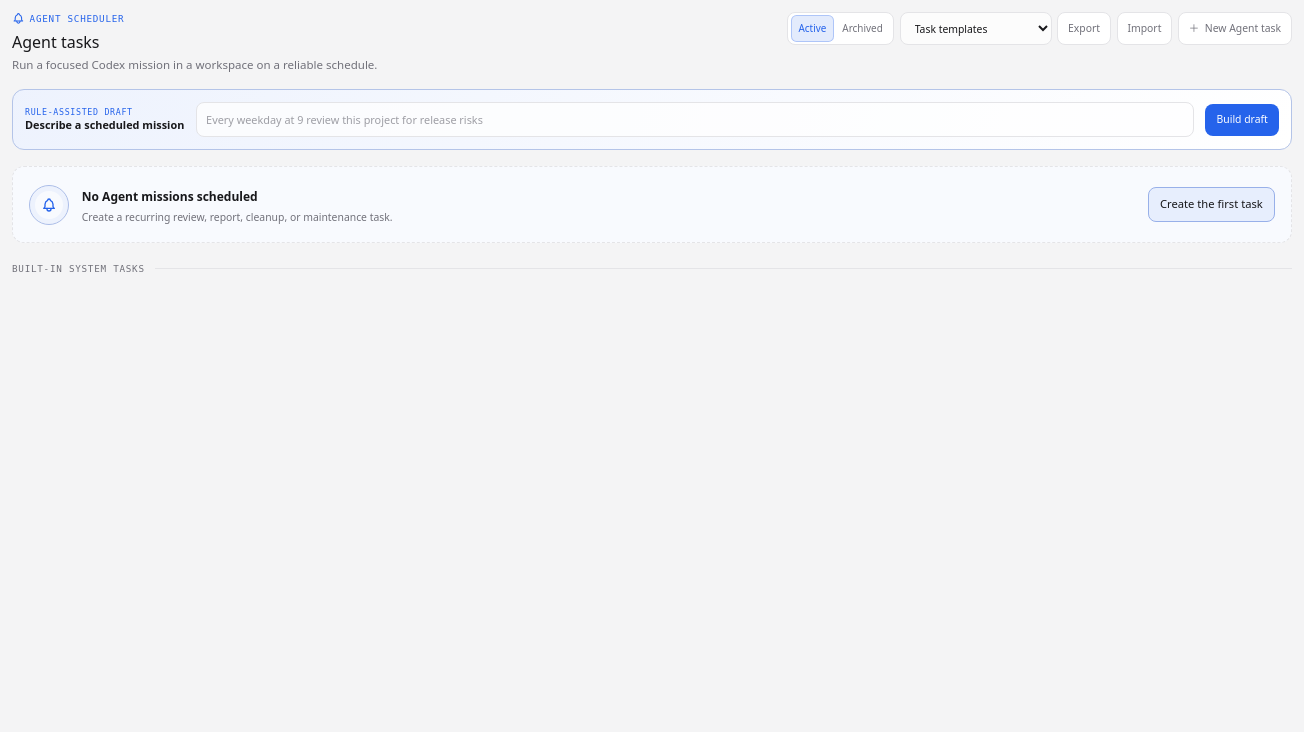
Test: AgentTasksPanel › turns a natural-language schedule into a reviewable editor draft
Step 1. Type "每个工作日上午 9 点检查 CI" into the field with placeholder "Every weekday at 9 review this project for release risks" → (695, 120), box x1=196 y1=102 x2=1194 y2=137
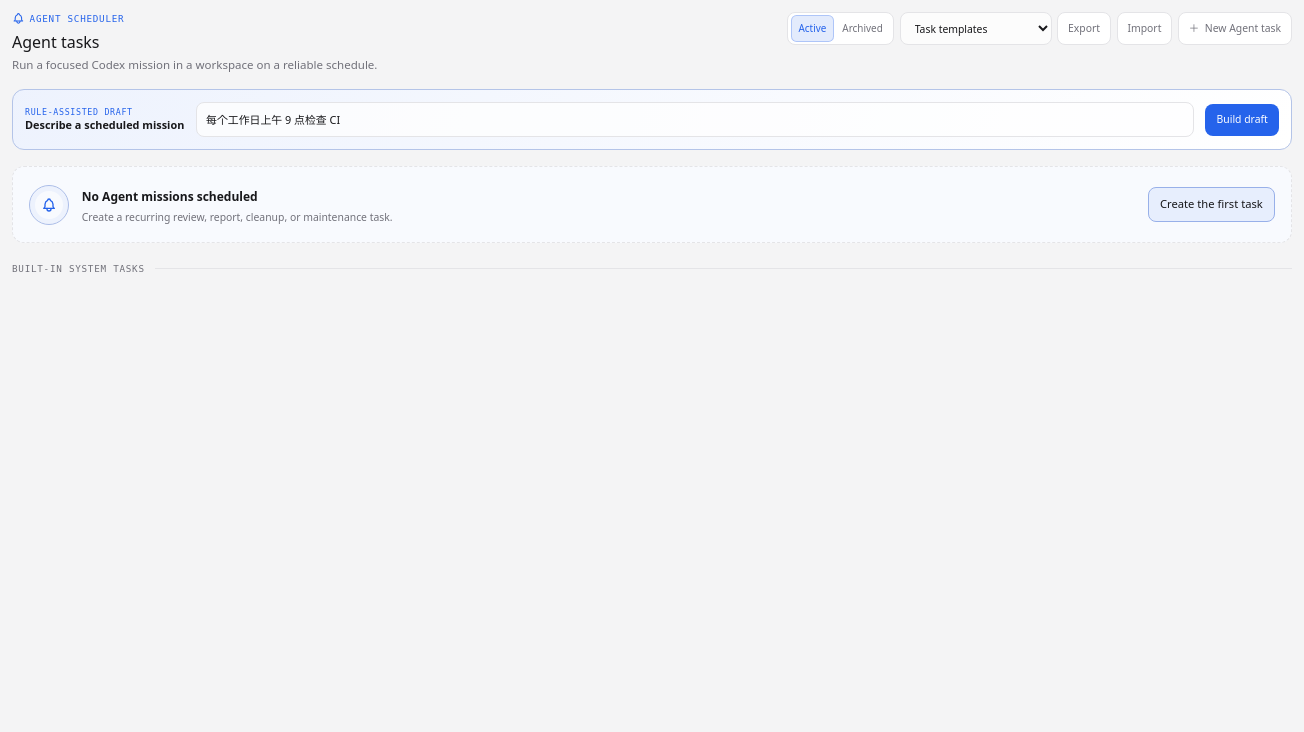
Step 2. Submit the form with class "agent-task-command", box x1=12 y1=89 x2=1292 y2=150
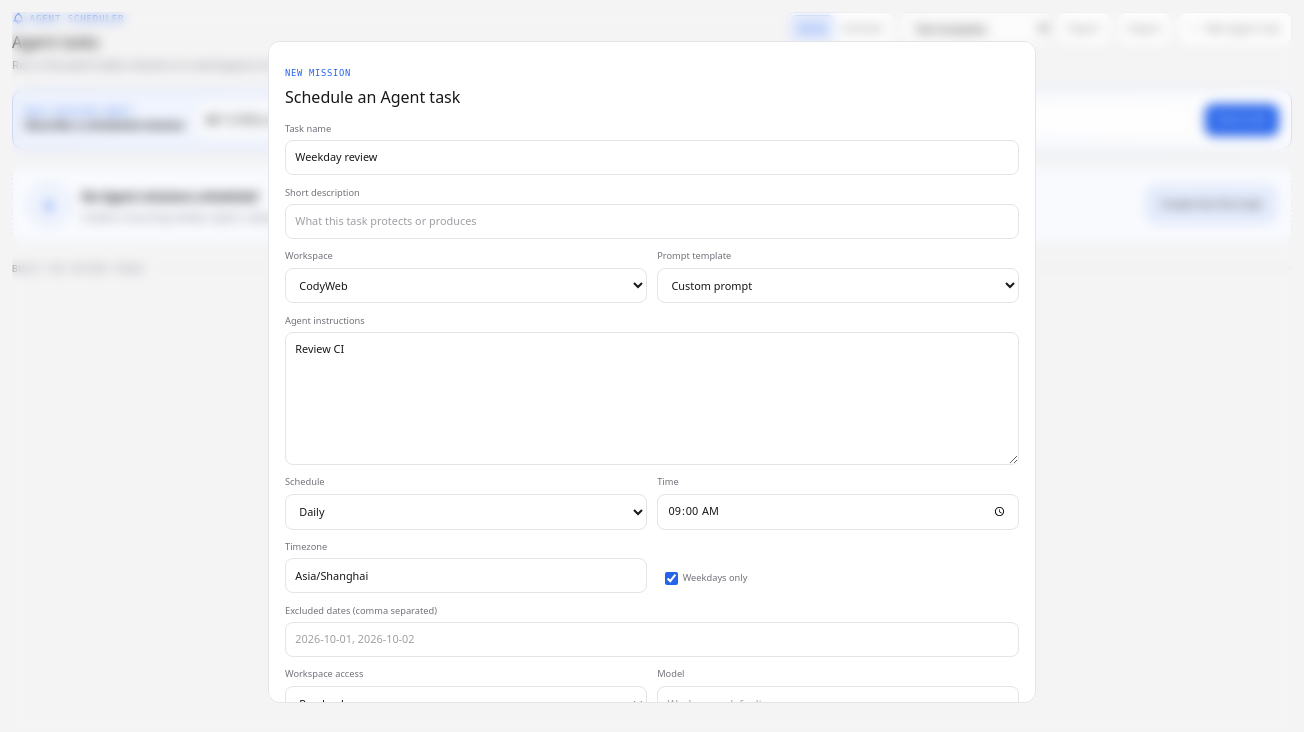
Now the field labelled "Task name" holds "Weekday review", box x1=285 y1=140 x2=1019 y2=175
